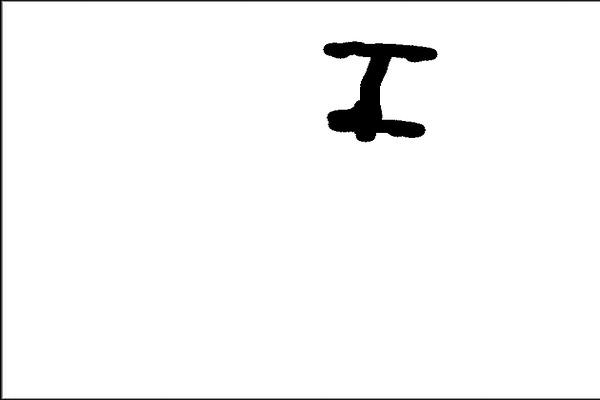i: (311, 32, 441, 141)
